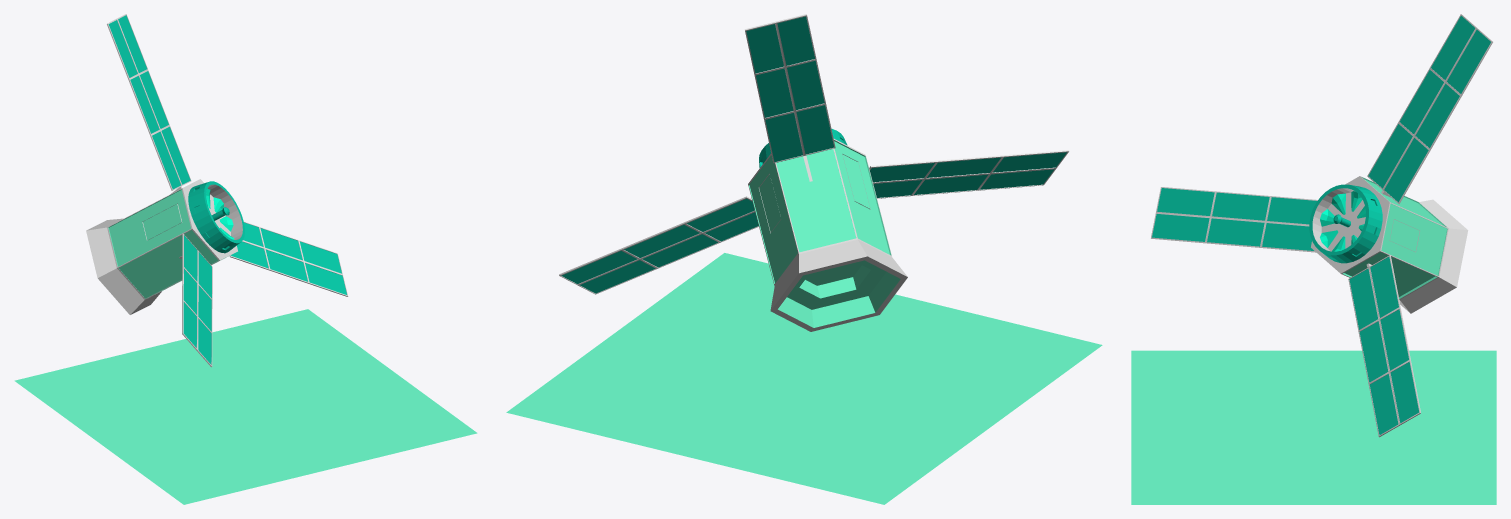
File: satellite_2_green.fbx
The picture shows the model from 3 angles, left to right: view 1: azimuth 30°, elevation 25°; view 2: azimuth 150°, elevation 25°; view 3: azimuth 270°, elevation 25°; orthographic projection. The views are drawn at different scales.
Visible parts, largest first — view 1: Plane, Cylinder.013, pCube10.002, pCube10, pCube10.001, Cylinder.019; view 2: Plane, Cylinder.013, pCube10, pCube10.002, pCube10.001; view 3: Plane, Cylinder.013, pCube10.001, pCube10, pCube10.002, Cylinder.019.
Boxes of the visible parts, x1,y1,x2,y2 form: Plane: (14,309,477,504); Cylinder.013: (86,179,237,314); pCube10.002: (229,221,348,296); pCube10: (107,14,191,190); pCube10.001: (182,233,212,367); Cylinder.019: (188,181,244,253); Plane: (506,253,1102,504); Cylinder.013: (748,138,907,331); pCube10: (744,14,835,163); pCube10.002: (559,196,758,294); pCube10.001: (869,150,1069,198); Plane: (1131,350,1496,504); Cylinder.013: (1311,176,1468,313); pCube10.001: (1151,187,1317,252); pCube10: (1367,14,1492,204); pCube10.002: (1348,255,1420,437); Cylinder.019: (1309,184,1382,263).
Size of the model in its own units: 1000 by 1140 by 1000.
